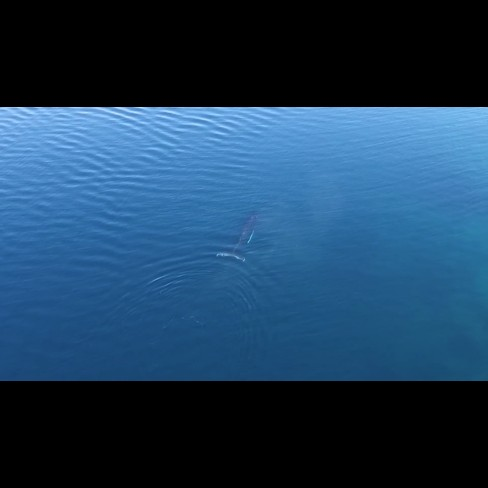hump: (216, 202, 265, 269)
